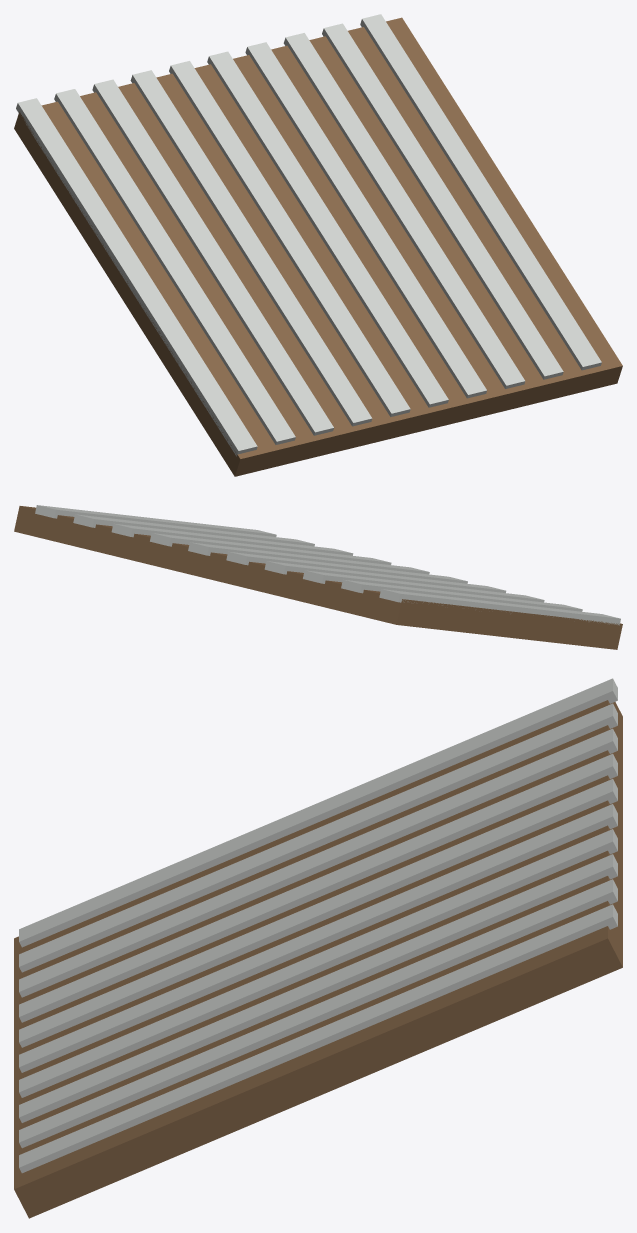
File: SM_Roof_Tin.glb
3 views of the same model, one above another, from view 1: azimuth 30°, elevation 25°; view 2: azimuth 150°, elevation 25°; view 3: azimuth 270°, elevation 25° (orthographic). The views are drawn at different scales.
Visible parts, largest first — view 1: SM_Roof_Tin; view 2: SM_Roof_Tin; view 3: SM_Roof_Tin.
Boxes of the visible parts, x1,y1,x2,y2 form: SM_Roof_Tin: [14, 14, 622, 476]; SM_Roof_Tin: [14, 505, 622, 649]; SM_Roof_Tin: [14, 678, 622, 1218].
Bounding box in the file's own units: 2 × 1.08 × 2.05.
